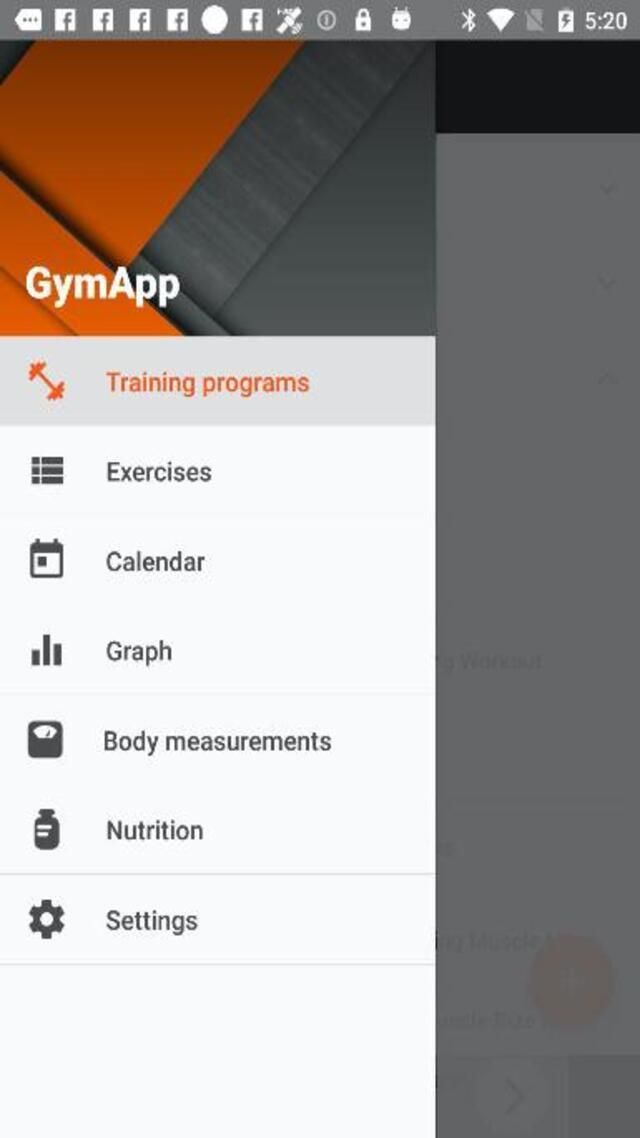Icon: (25, 897, 68, 939), (28, 360, 66, 401), (29, 539, 64, 578), (28, 721, 62, 758), (33, 808, 60, 849), (32, 633, 62, 665), (32, 455, 64, 484)
Text: (26, 266, 180, 307), (104, 730, 332, 757), (104, 372, 308, 396), (107, 460, 212, 482), (106, 910, 197, 935), (106, 818, 202, 839), (108, 550, 206, 570), (107, 639, 172, 666)
